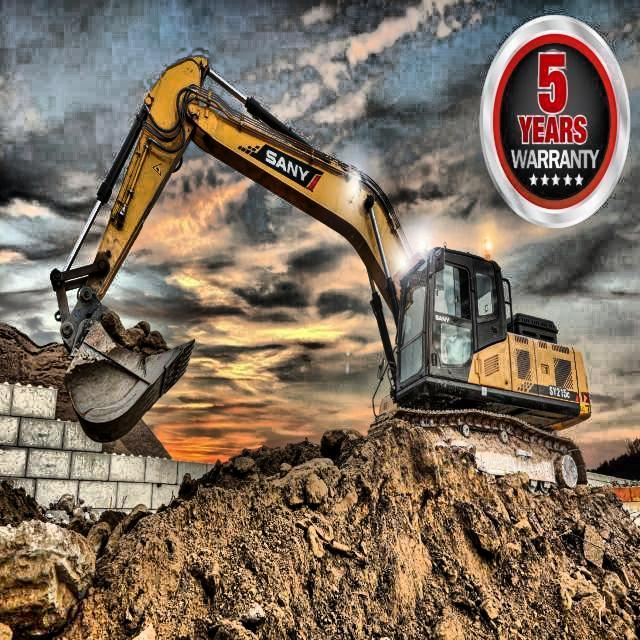excavator: (48, 50, 592, 495)
